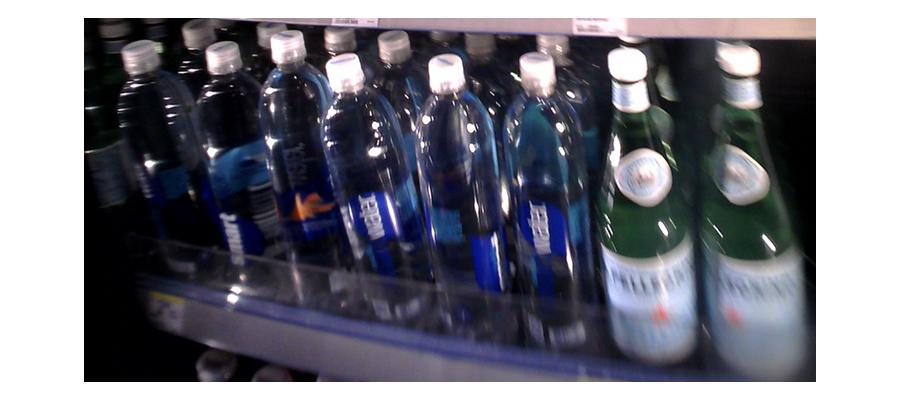bottle: (700, 49, 803, 368), (598, 52, 699, 372), (413, 44, 504, 349), (500, 51, 585, 355), (324, 53, 409, 336), (116, 42, 209, 299), (261, 27, 329, 313), (195, 39, 261, 293)
